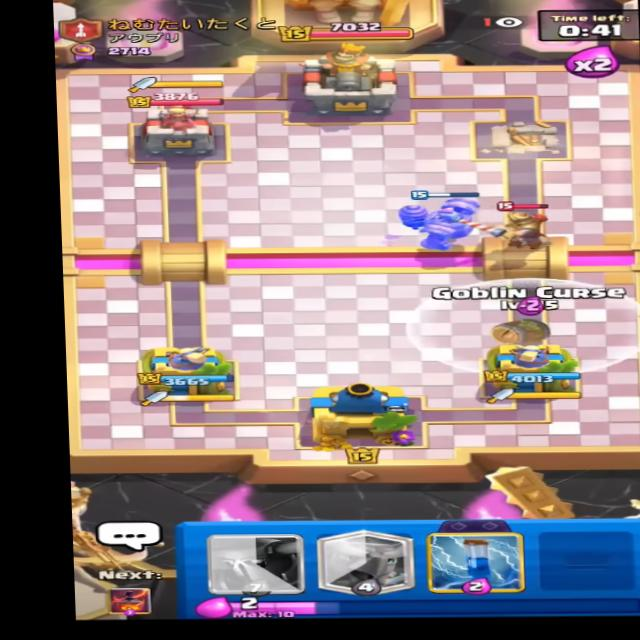Goblinbarrel: (478, 304, 572, 350)
Prince: (486, 196, 552, 258)
